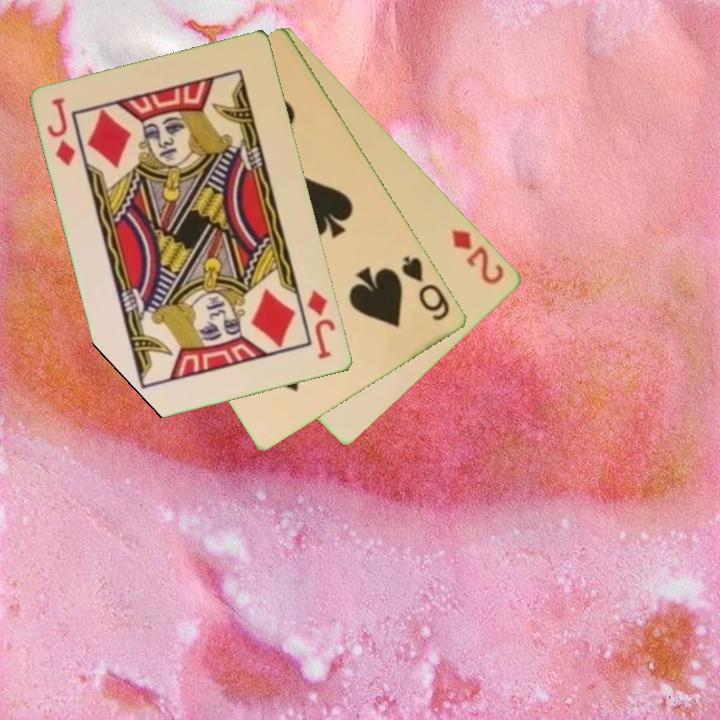2d: (448, 225, 508, 288)
6s: (398, 252, 453, 324)
Jd: (43, 94, 79, 170), (304, 286, 339, 363)
